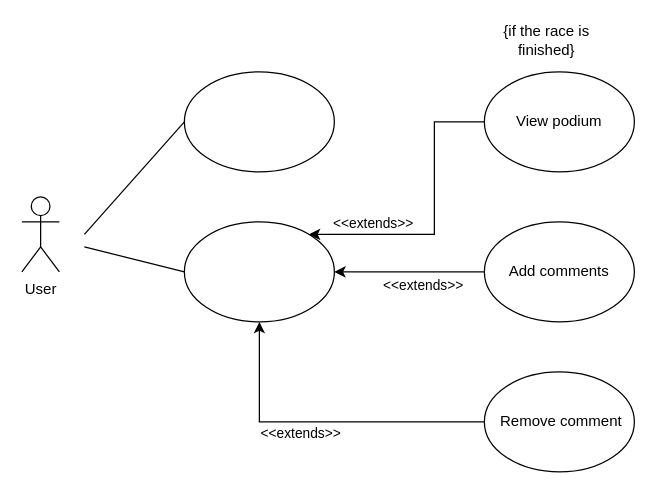
The diagram is 656 pixels wide and 494 high, and some of its shapes have lost their labels. The shapes that lost their labels are listed below. From the top down, each one's centre as x and y in pixels, then its label:
At (258,121): "View race list".
At (258,271): "View race details and comments".
